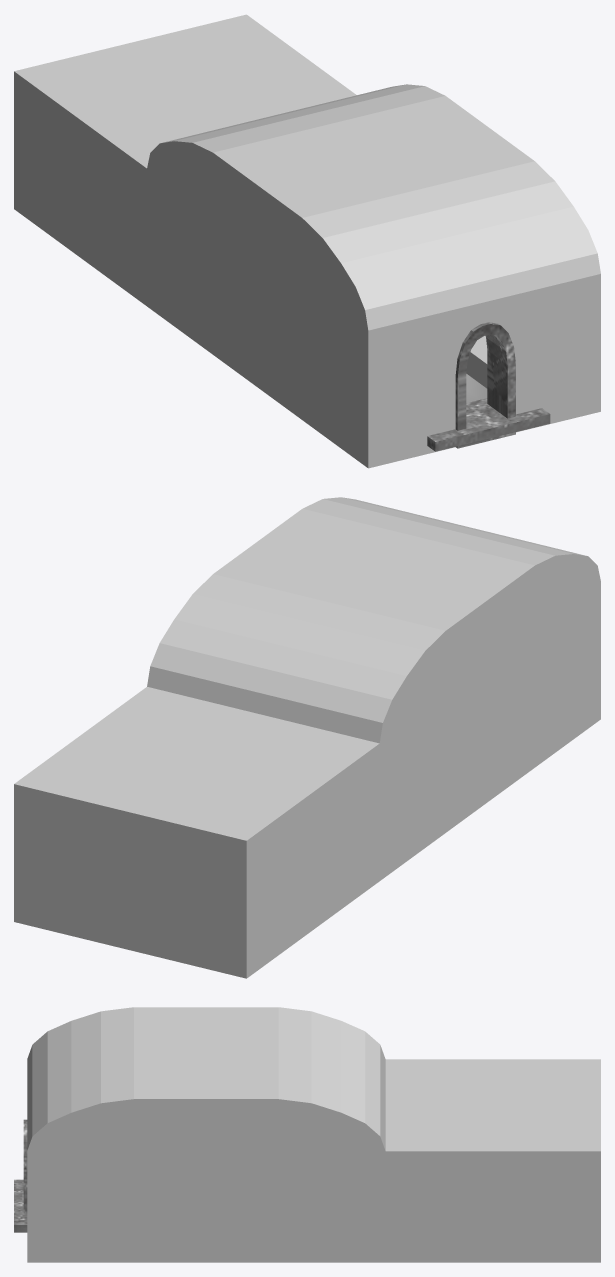
The model's file is Underground Room.fbx.
3 renders of one model, top to bottom at view 1: azimuth 30°, elevation 25°; view 2: azimuth 150°, elevation 25°; view 3: azimuth 270°, elevation 25°, orthographic. The views are drawn at different scales.
Visible parts, largest first — view 1: Cube.037, Cube.044, Cube.043; view 2: Cube.037; view 3: Cube.037, Cube.043, Cube.044.
Part boxes in pixels (bbox=[...]): Cube.037: bbox=[14, 14, 600, 468]; Cube.044: bbox=[455, 322, 515, 448]; Cube.043: bbox=[427, 398, 550, 451]; Cube.037: bbox=[14, 497, 600, 978]; Cube.037: bbox=[27, 1007, 600, 1262]; Cube.043: bbox=[14, 1179, 27, 1232]; Cube.044: bbox=[23, 1119, 27, 1213].
Size of the model in its own units: 1220 by 1013 by 3293.
